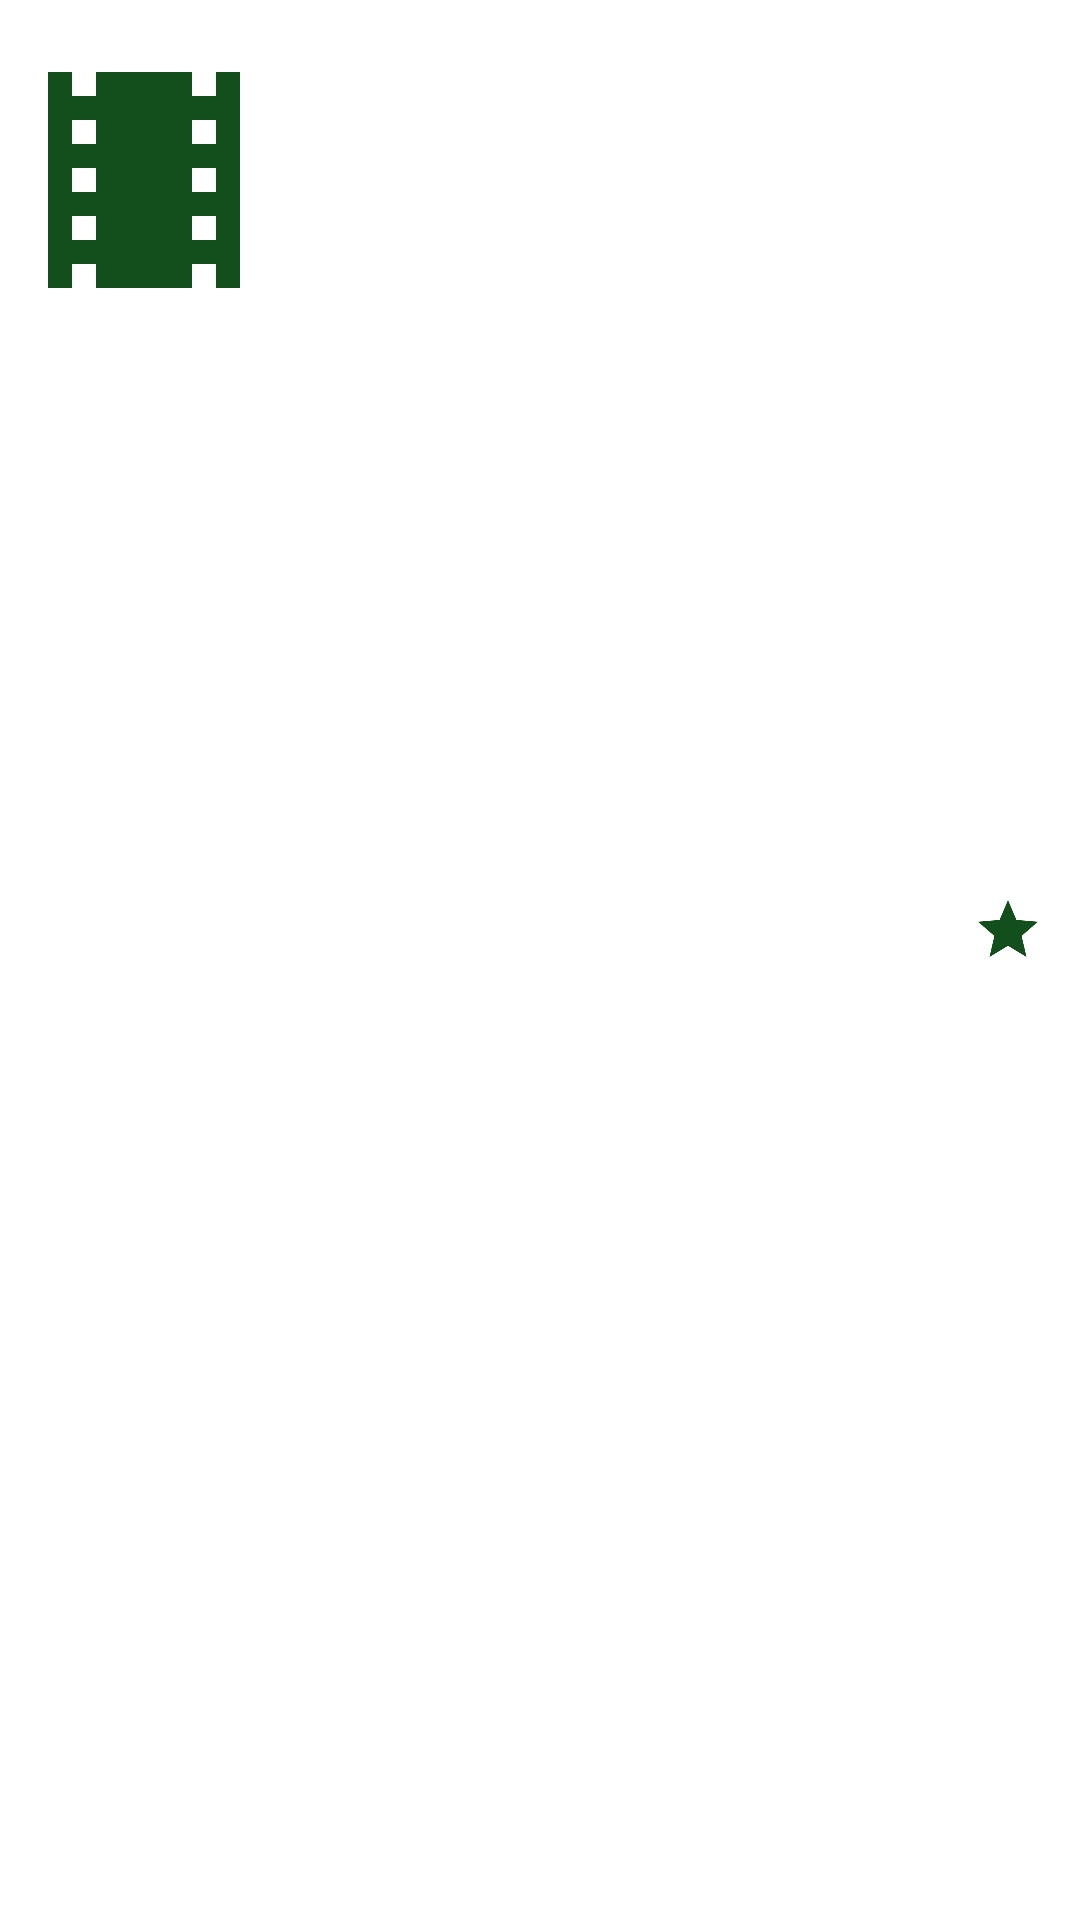

Icon bounding boxes for this 1080x1920 phone screenshot, format rect(x1, y1, x2, y2):
film: rect(48, 72, 240, 288)
